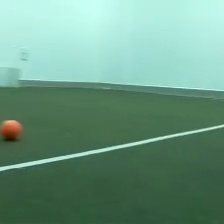ball: (1, 117, 25, 142)
goal: (1, 64, 21, 90)
